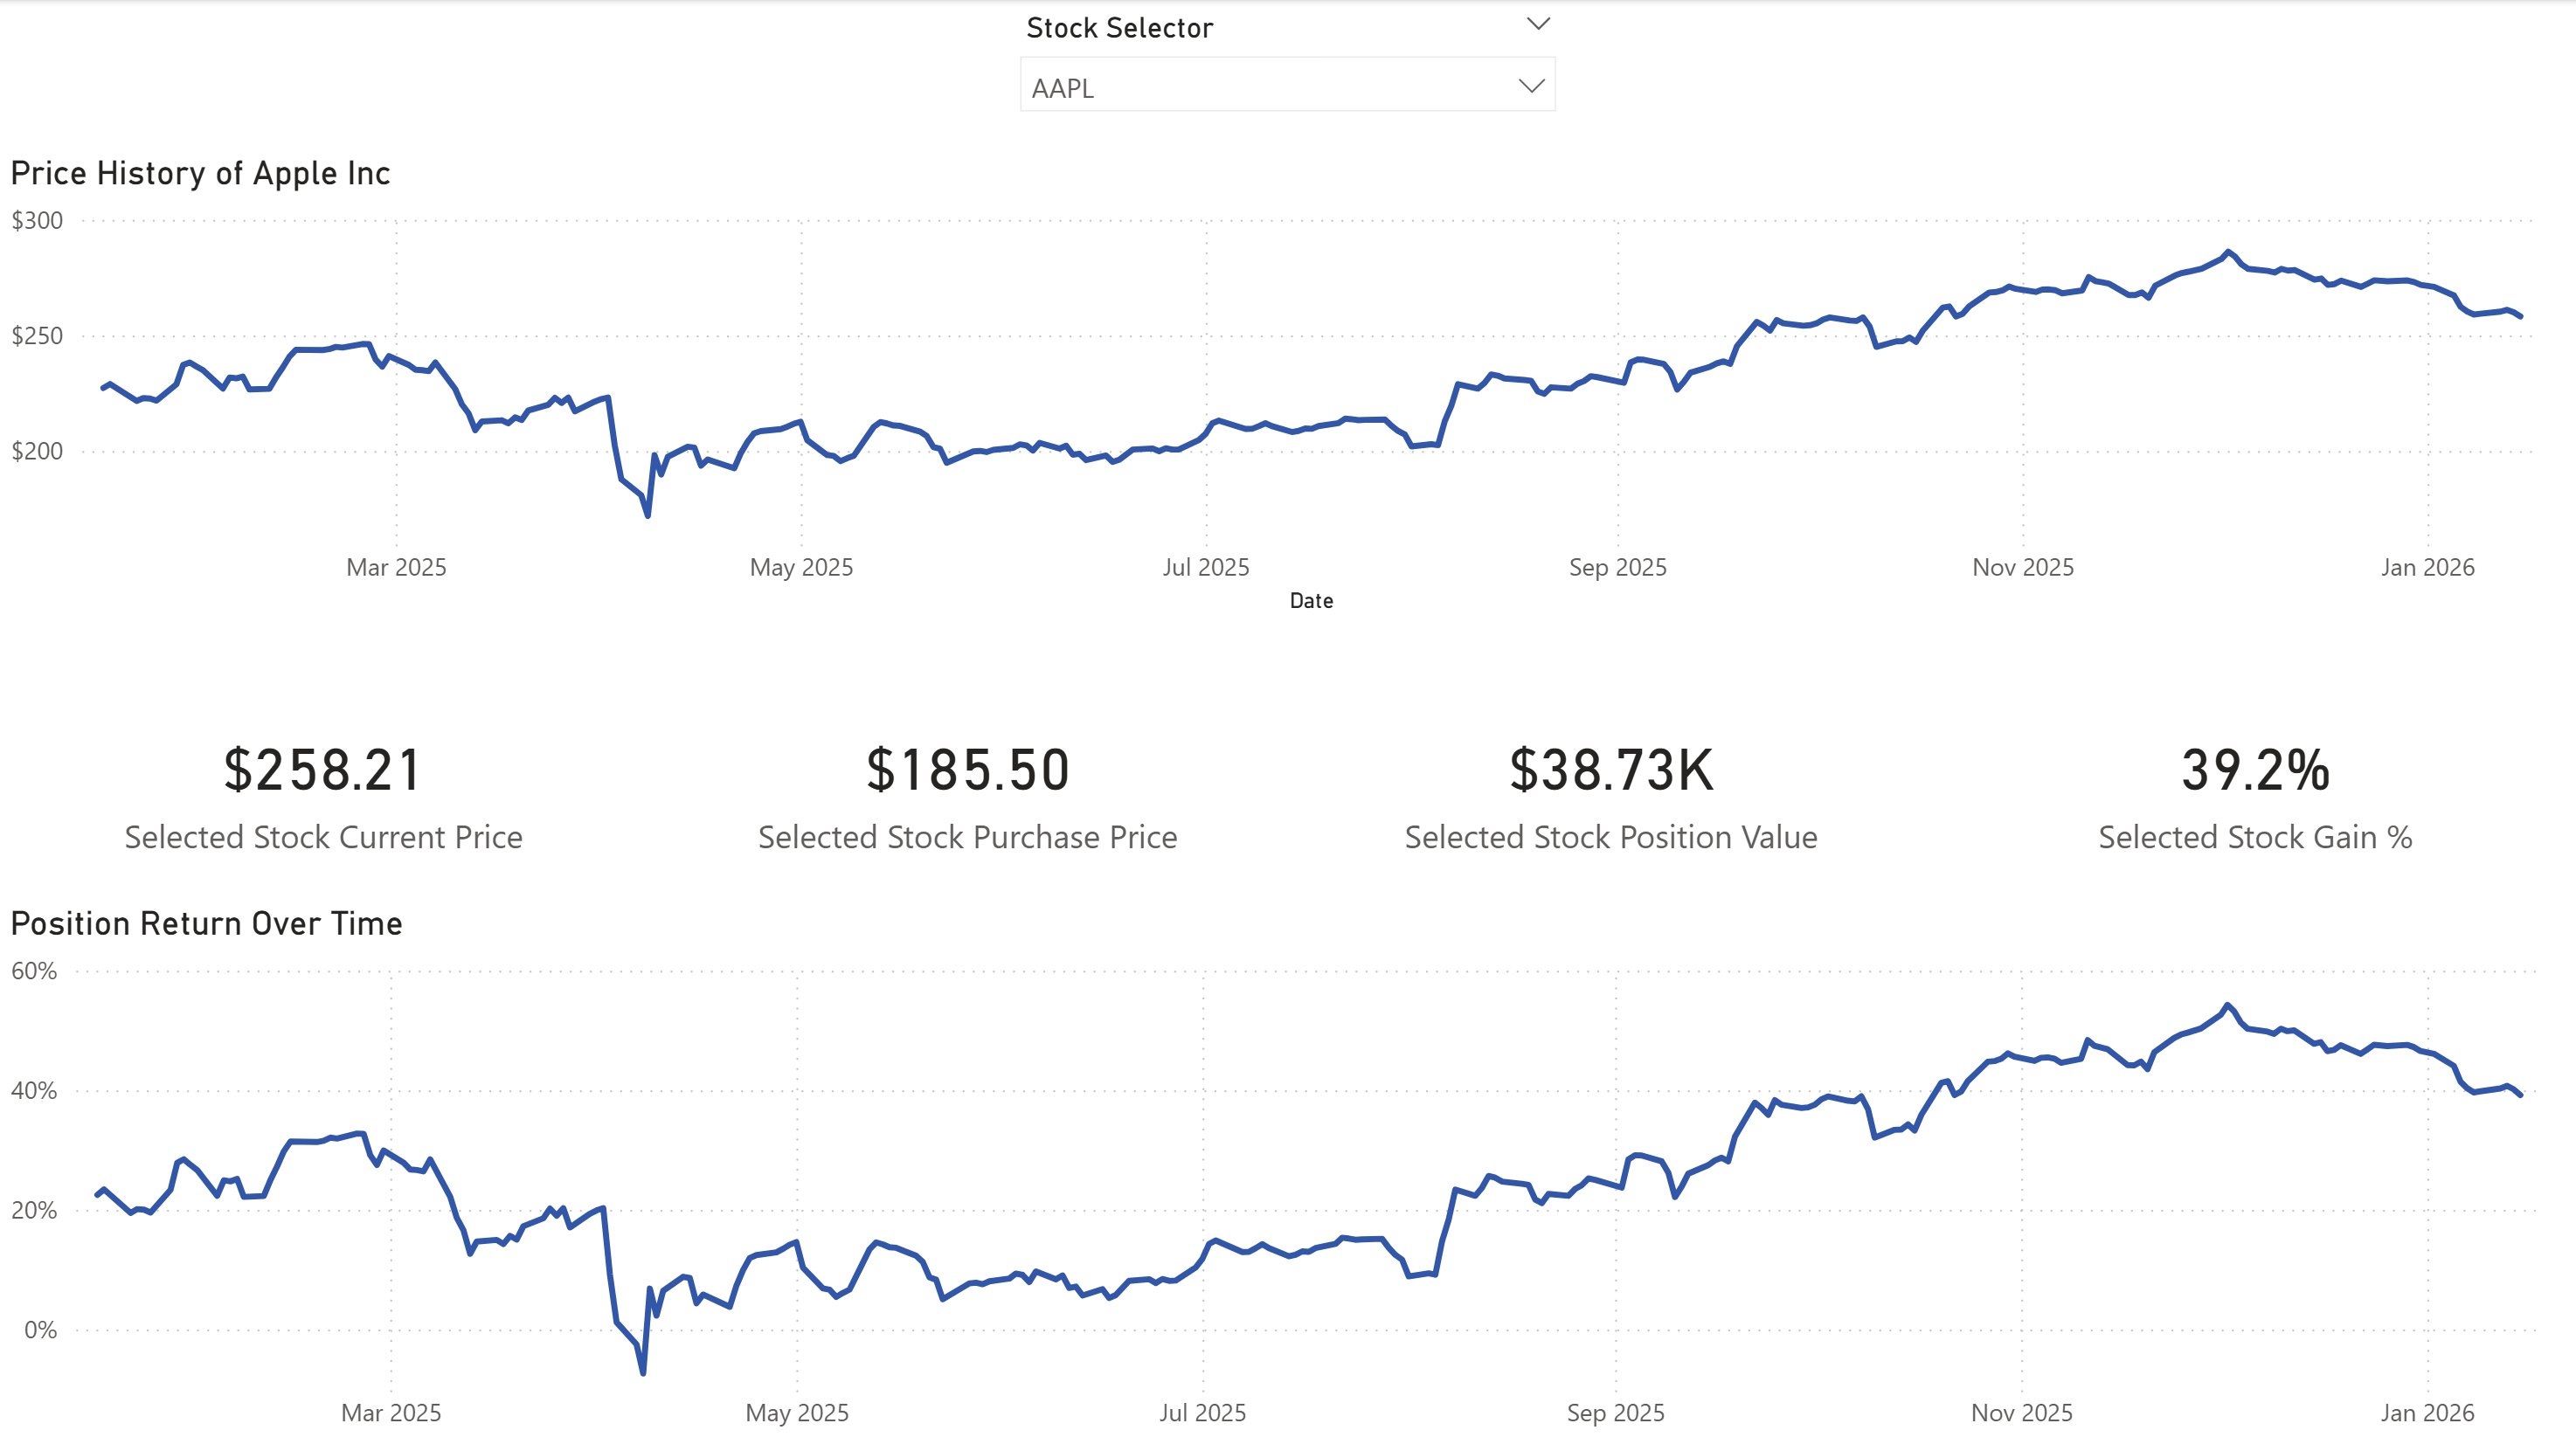

The page's visual inventory and layout, read from the dashboard file:
{"tool":"powerbi","page":{"name":"Individual Stock Focus","canvas":[1280,720],"ordinal":2},"visuals":[{"type":"slicer","title":"Stock Selector","fields":{"Values":["fact_portfolio_performance.Ticker"]},"box":[496.7,0,286.3,75.2],"z":0},{"type":"lineChart","fields":{"Category":["fact_stock_history.Date"],"Y":["Sum(fact_stock_history.Close)"]},"box":[0,75.2,1279.8,233],"z":1000},{"type":"card","fields":{"Values":["_Measures.Selected Stock Current Price"]},"box":[0,331.7,320.8,116.9],"z":2000},{"type":"card","fields":{"Values":["_Measures.Selected Stock Purchase Price"]},"box":[320.8,331.7,318.8,116.9],"z":3000},{"type":"card","fields":{"Values":["_Measures.Selected Stock Position Value"]},"box":[640.2,331.7,318.8,116.9],"z":4000},{"type":"card","fields":{"Values":["_Measures.Selected Stock Gain %"]},"box":[959,331.7,320.8,116.9],"z":5000},{"type":"lineChart","title":"Position Return Over Time","fields":{"Category":["fact_stock_history.Date"],"Y":["_Measures.Selected Stock Return Over Time %"]},"box":[0,448.6,1279.8,271.2],"z":6000}]}

Visuals, with their boxes in screenshot pixels (x1, y1, x2, y2), scaled from the page's 1280x720 canvas onto the 2576x1444 screenshot:
"Stock Selector" slicer: {"left": 1000, "top": 0, "right": 1575, "bottom": 151}
lineChart - fact_stock_history.Date x Sum(fact_stock_history.Close): {"left": 0, "top": 151, "right": 2575, "bottom": 618}
card - _Measures.Selected Stock Current Price: {"left": 0, "top": 666, "right": 646, "bottom": 900}
card - _Measures.Selected Stock Purchase Price: {"left": 646, "top": 666, "right": 1287, "bottom": 900}
card - _Measures.Selected Stock Position Value: {"left": 1288, "top": 666, "right": 1930, "bottom": 900}
card - _Measures.Selected Stock Gain %: {"left": 1930, "top": 666, "right": 2575, "bottom": 900}
"Position Return Over Time" lineChart: {"left": 0, "top": 900, "right": 2575, "bottom": 1443}
